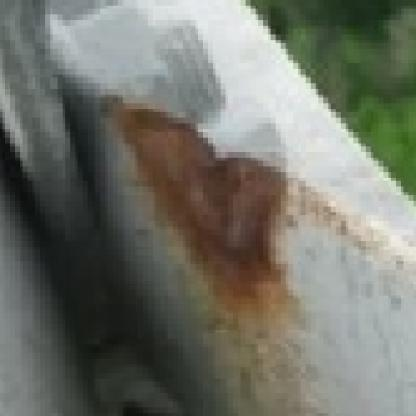Grado3: (106, 94, 298, 295)
